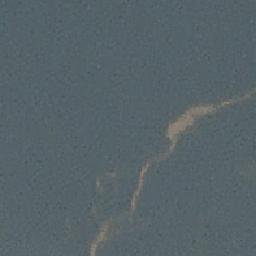debris: (125, 134, 165, 213), (166, 115, 201, 159), (185, 95, 256, 114), (92, 214, 115, 256)
